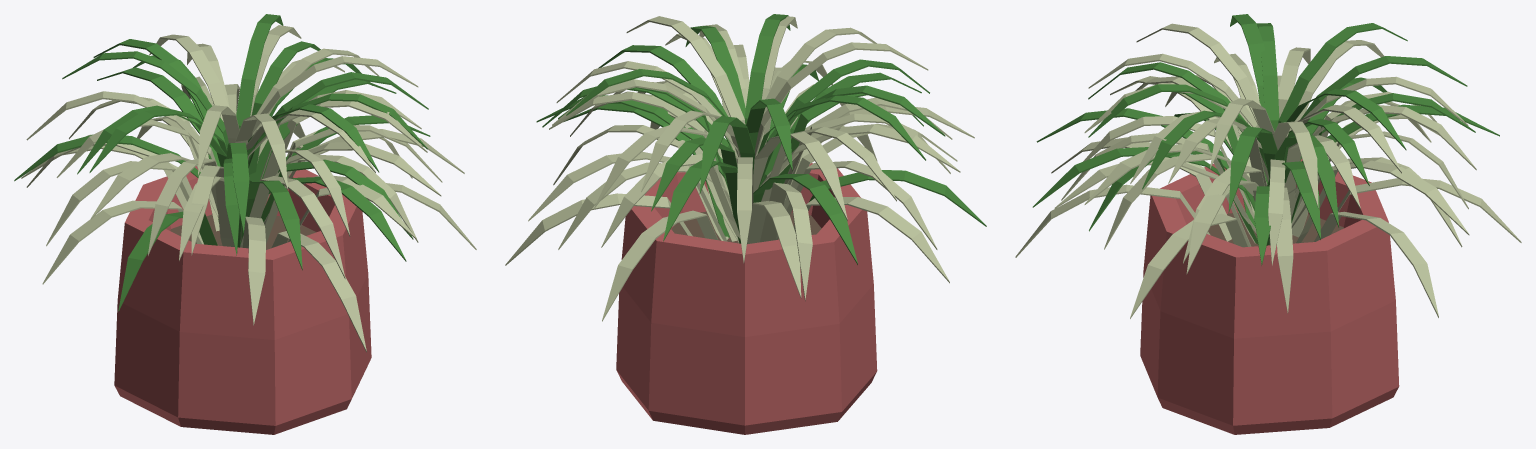
The model's file is Flower_2.fbx.
3 views of the same model, side by side, from view 1: azimuth 30°, elevation 25°; view 2: azimuth 150°, elevation 25°; view 3: azimuth 270°, elevation 25° (orthographic). The views are drawn at different scales.
Parts seen in each view (by area): view 1: Flower_2; view 2: Flower_2; view 3: Flower_2.
Boxes of the visible parts, box(x1,y1,x2,y2) form: Flower_2: box(14, 14, 476, 434); Flower_2: box(505, 14, 986, 434); Flower_2: box(1015, 14, 1521, 434).
Size of the model in its own units: 24.16 by 27.32 by 19.05.
